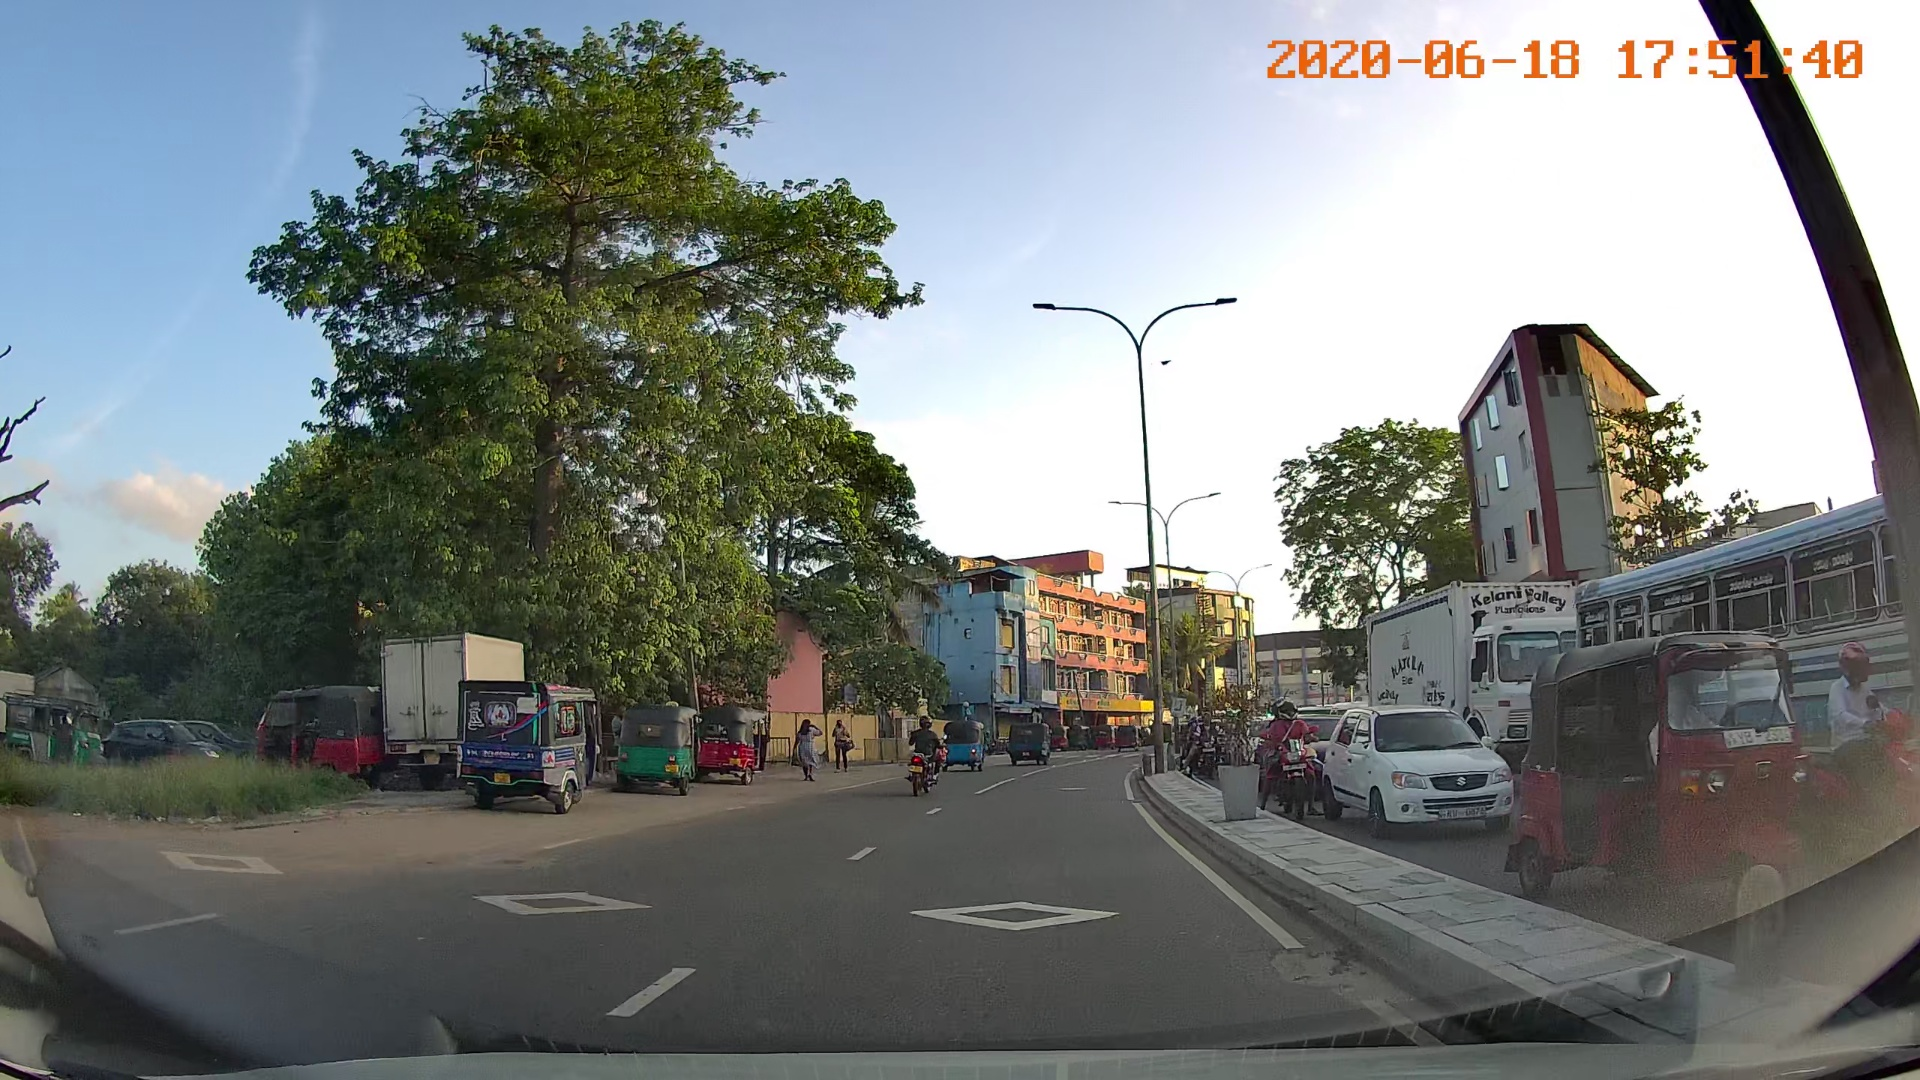diamond: (895, 880, 1129, 949), (468, 876, 655, 936), (156, 837, 287, 884)
